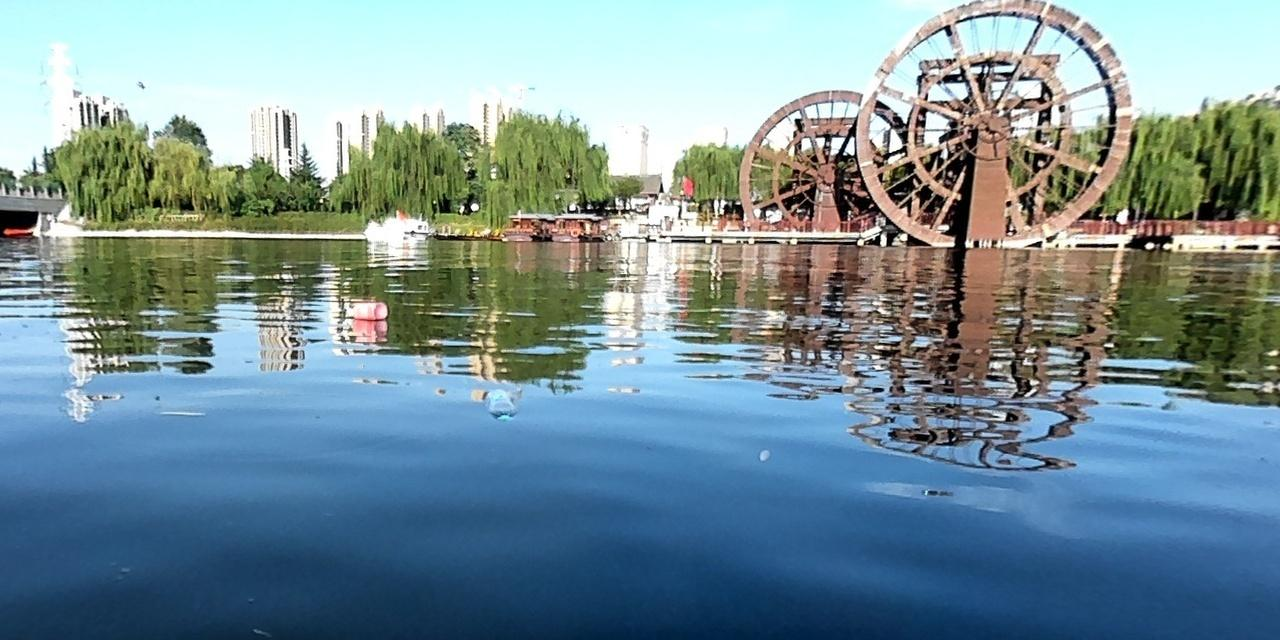bottle: (481, 383, 515, 424), (343, 300, 388, 320)
